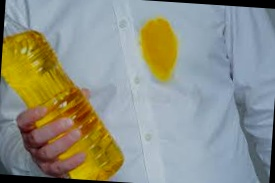mustard: (134, 15, 180, 85)
